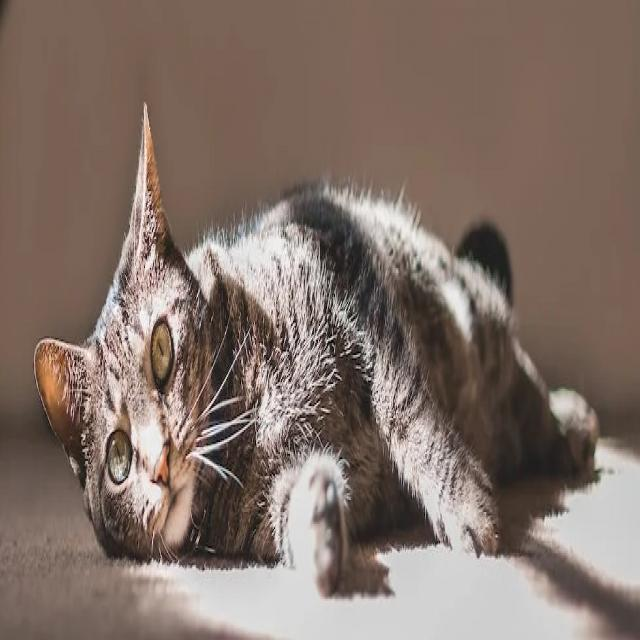cat: (29, 92, 603, 640)
